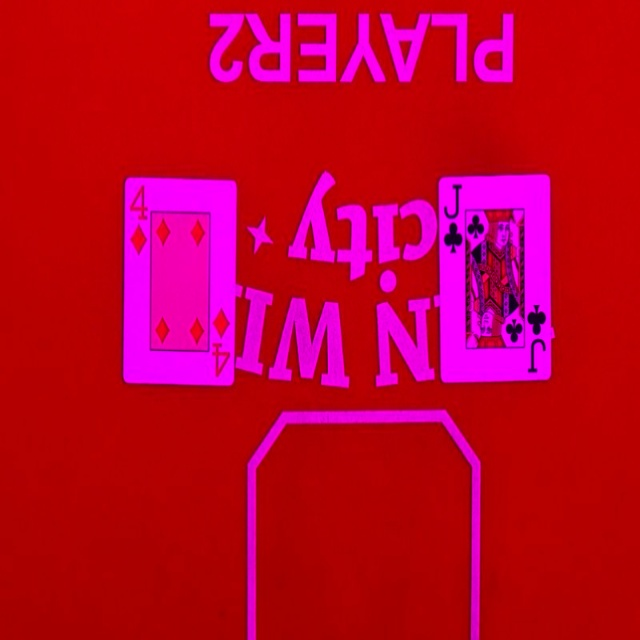4D: (123, 183, 149, 259), (209, 304, 233, 385)
JC: (526, 301, 553, 378), (440, 181, 465, 260)
